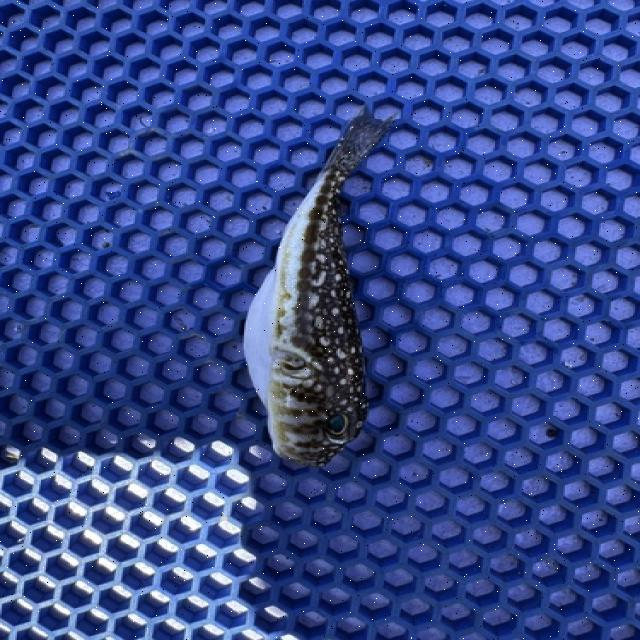Balik: (245, 111, 392, 465)
